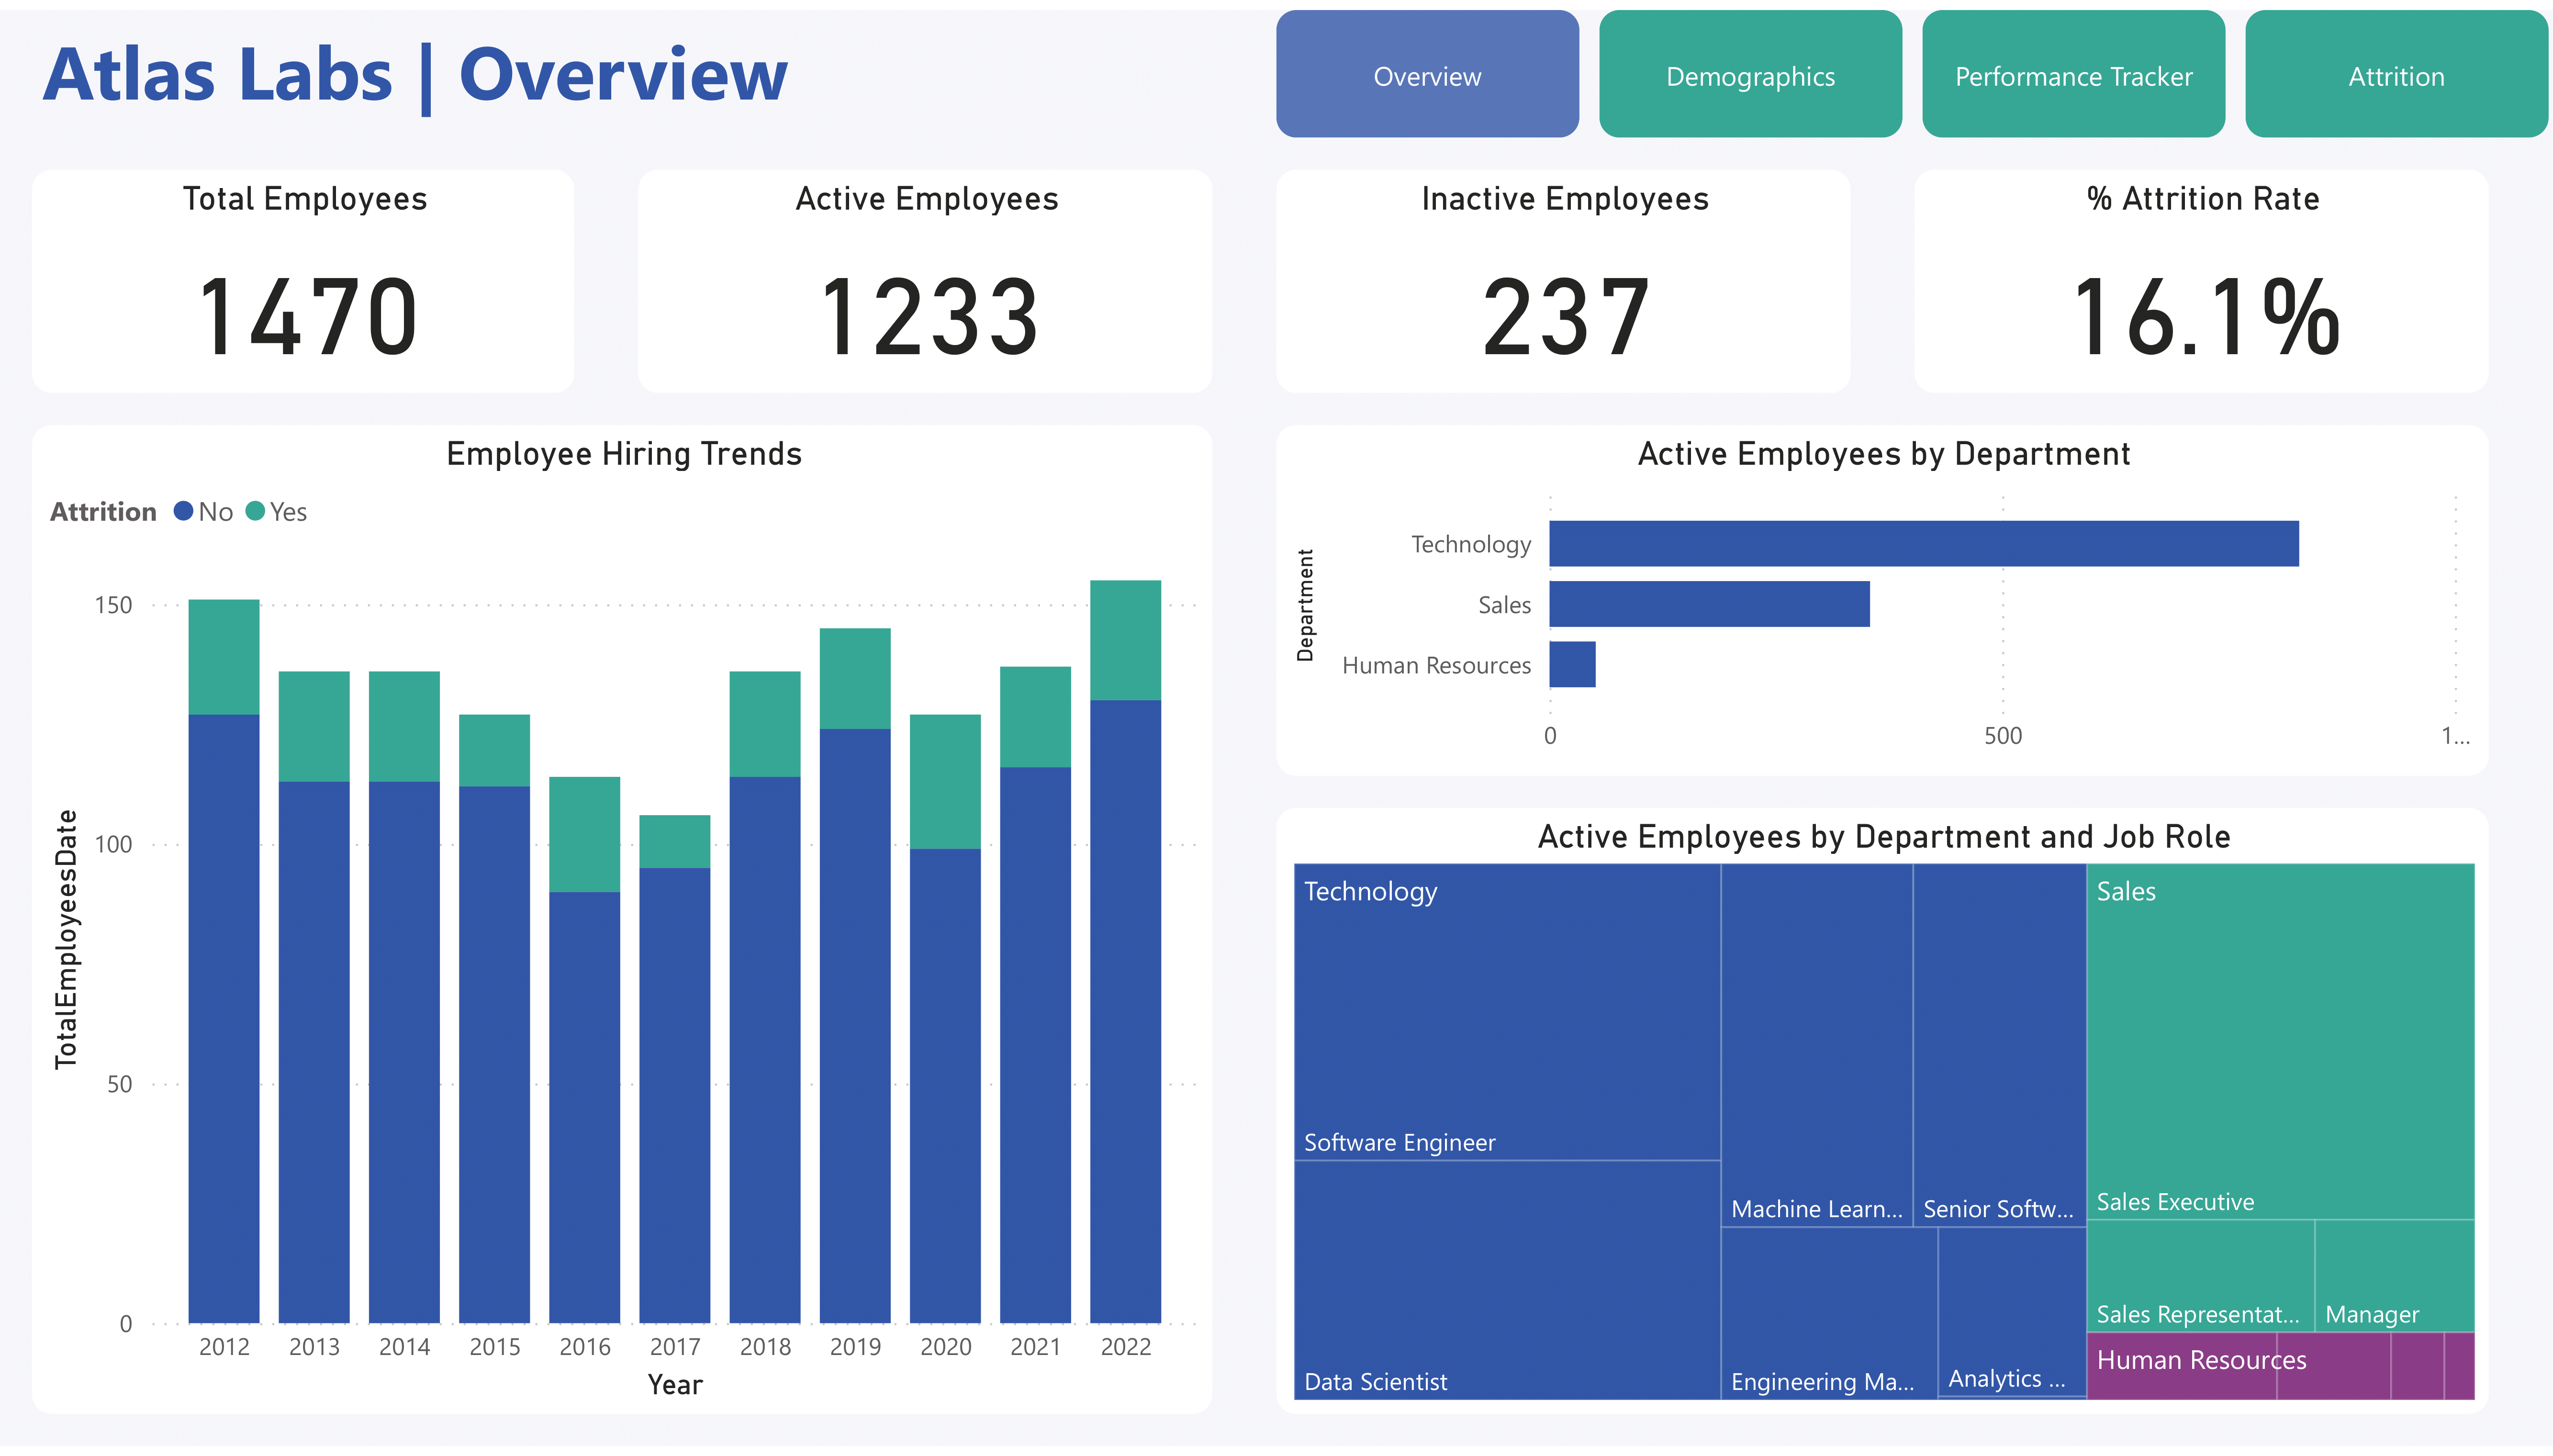

This screenshot's page, from the dashboard's own definition file:
{"tool":"powerbi","page":{"name":"Overview","canvas":[1280,720],"ordinal":0},"visuals":[{"type":"card","title":"Total Employees","fields":{"Values":["_Measures.TotalEmployees"]},"box":[16,80,272,112],"z":0},{"type":"card","title":"Active Employees","fields":{"Values":["_Measures.ActiveEmployees"]},"box":[320,80,288,112],"z":1000},{"type":"card","title":"Inactive Employees","fields":{"Values":["_Measures.InactiveEmployees"]},"box":[640,80,288,112],"z":2000},{"type":"card","title":"% Attrition Rate","fields":{"Values":["_Measures.% Attrition Rate"]},"box":[960,80,288,112],"z":3000},{"type":"columnChart","title":"Employee Hiring Trends","fields":{"Category":["DimDate.Date.Variation.Date Hierarchy.Year","DimDate.Date.Variation.Date Hierarchy.Quarter","DimDate.Date.Variation.Date Hierarchy.Month","DimDate.Date.Variation.Date Hierarchy.Day"],"Y":["_Measures.TotalEmployeesDate"],"Series":["DimEmployee.Attrition"]},"box":[16,208,592,496],"z":4000},{"type":"clusteredBarChart","title":"Active Employees by Department","fields":{"Category":["DimEmployee.Department"],"Y":["_Measures.ActiveEmployees"]},"box":[640,208,608,176],"z":5000},{"type":"treemap","title":"Active Employees by Department and Job Role","fields":{"Values":["_Measures.ActiveEmployees"],"Group":["DimEmployee.Department"],"Details":["DimEmployee.JobRole"]},"box":[640,400,608,304],"z":6000},{"type":"textbox","box":[15.9,0,537.2,63.6],"z":8000},{"type":"pageNavigator","box":[640,0,640,64],"z":9000}]}

Visuals, with their boxes in screenshot pixels (x1, y1, x2, y2), scaled from the page's 1280x720 canvas onto the 2553x1456 screenshot:
"Total Employees" card: <bbox>32, 162, 574, 388</bbox>
"Active Employees" card: <bbox>638, 162, 1213, 388</bbox>
"Inactive Employees" card: <bbox>1276, 162, 1851, 388</bbox>
"% Attrition Rate" card: <bbox>1915, 162, 2489, 388</bbox>
"Employee Hiring Trends" columnChart: <bbox>32, 421, 1213, 1423</bbox>
"Active Employees by Department" clusteredBarChart: <bbox>1276, 421, 2489, 776</bbox>
"Active Employees by Department and Job Role" treemap: <bbox>1276, 809, 2489, 1423</bbox>
textbox: <bbox>32, 0, 1103, 129</bbox>
pageNavigator: <bbox>1276, 0, 2553, 129</bbox>
